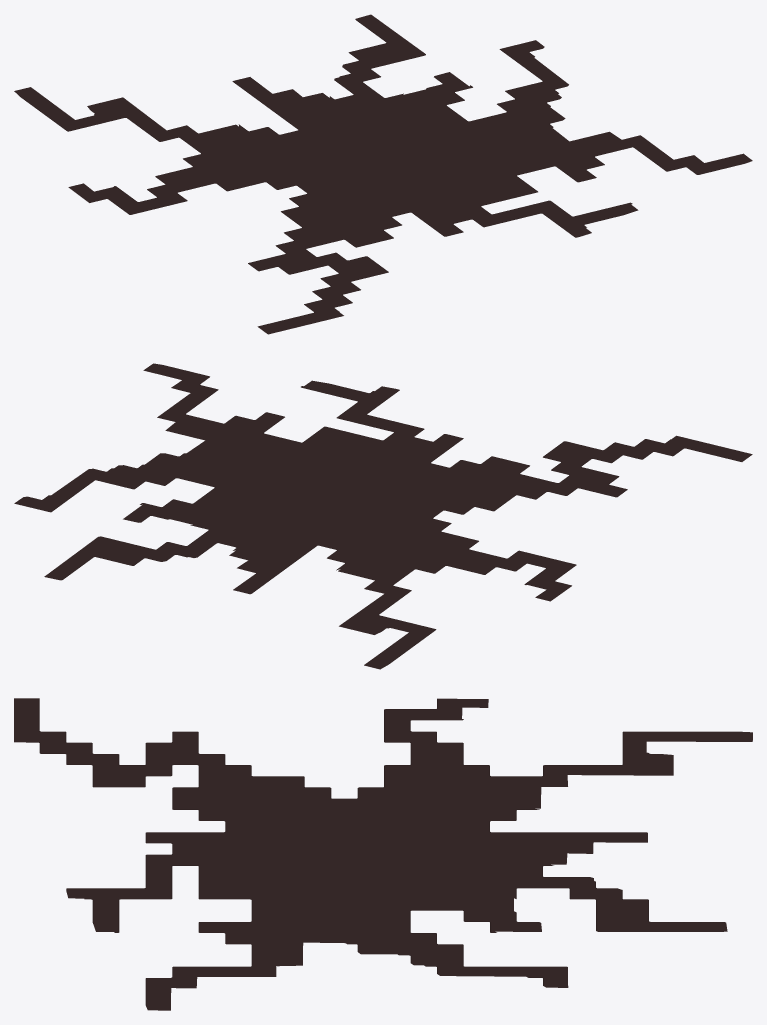
File: crack.fbx
3 views of the same model, one above another, from view 1: azimuth 30°, elevation 25°; view 2: azimuth 150°, elevation 25°; view 3: azimuth 270°, elevation 25° (orthographic). The views are drawn at different scales.
Visible parts, largest first — view 1: Plane; view 2: Plane; view 3: Plane.
Part boxes in pixels (x1,y1,x2,y2): Plane: [14, 14, 752, 334]; Plane: [14, 363, 752, 669]; Plane: [14, 698, 752, 1010].
Size of the model in its own units: 174 by 2.84e-05 by 174.
